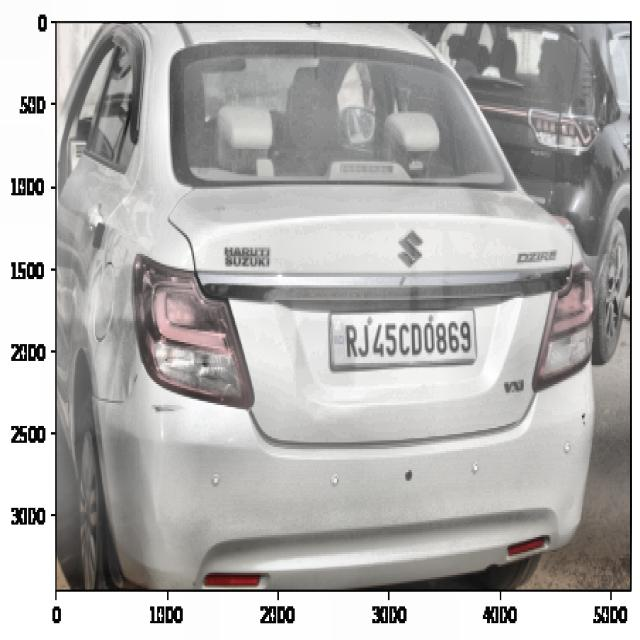license_plate: (337, 305, 475, 367)
